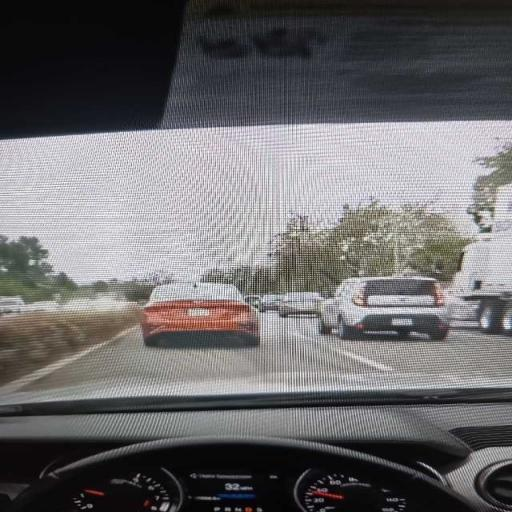car: (319, 277, 449, 340), (142, 283, 259, 345), (279, 292, 322, 317), (0, 297, 24, 315), (260, 294, 283, 312), (24, 301, 60, 312), (245, 296, 260, 308)
lane: (22, 313, 511, 390), (322, 324, 511, 381)
truck: (452, 185, 511, 334)
